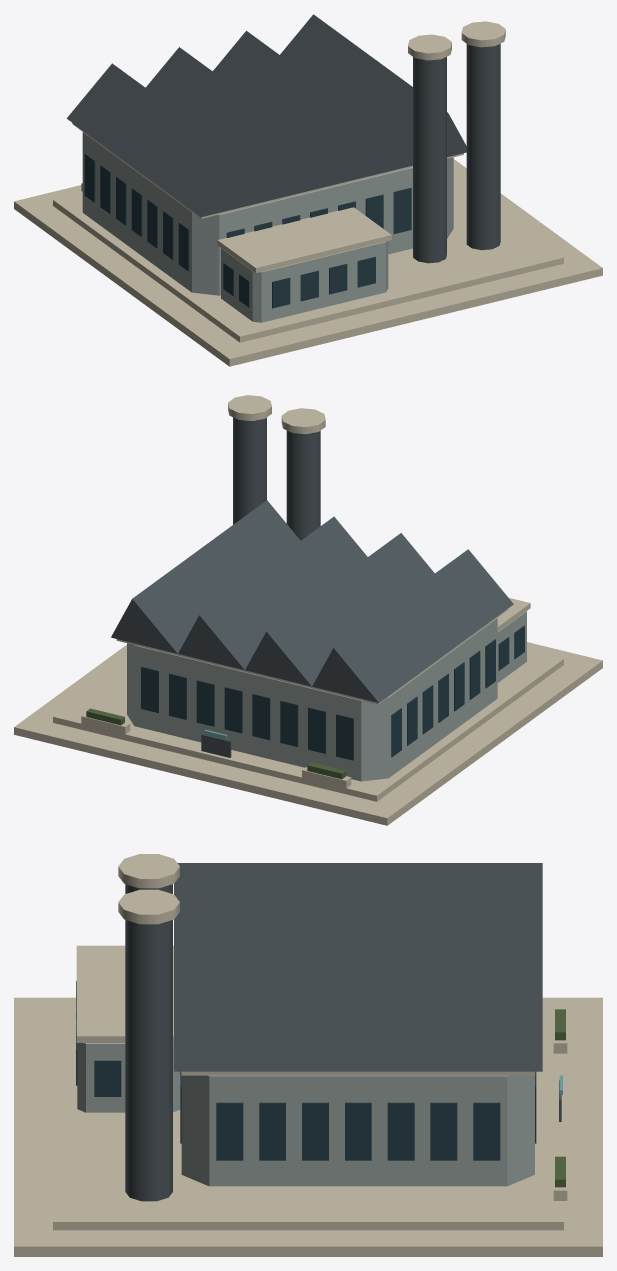
Rendered from industrial.glb.
3 views of the same model, one above another, from view 1: azimuth 30°, elevation 25°; view 2: azimuth 150°, elevation 25°; view 3: azimuth 270°, elevation 25° (orthographic). The views are drawn at different scales.
Visible parts, largest first — view 1: sawtooth-factory-roof, foundation, factory-hall, plinth, exhaust-stacks, windows, roof-slabs, loading-annex, stack-collars; view 2: sawtooth-factory-roof, factory-hall, foundation, windows, plinth, exhaust-stacks, stack-collars, roof-slabs, loading-annex, planters, planting; view 3: sawtooth-factory-roof, plinth, foundation, factory-hall, exhaust-stacks, windows, roof-slabs, stack-collars, loading-annex, planting, planters.
Boxes of the visible parts, <box> form: sawtooth-factory-roof: <box>67,14,466,216</box>; foundation: <box>14,159,602,366</box>; factory-hall: <box>82,132,453,295</box>; plinth: <box>53,177,563,342</box>; exhaust-stacks: <box>413,43,500,263</box>; windows: <box>84,153,411,308</box>; roof-slabs: <box>72,123,463,272</box>; loading-annex: <box>221,241,388,322</box>; stack-collars: <box>408,21,505,60</box>; sawtooth-factory-roof: <box>111,500,513,702</box>; factory-hall: <box>127,618,497,781</box>; foundation: <box>14,642,602,825</box>; windows: <box>141,625,524,760</box>; plinth: <box>53,650,563,801</box>; exhaust-stacks: <box>233,417,320,540</box>; stack-collars: <box>228,395,325,434</box>; roof-slabs: <box>116,598,530,704</box>; loading-annex: <box>497,611,526,682</box>; planters: <box>81,713,351,788</box>; planting: <box>86,708,345,779</box>; sawtooth-factory-roof: <box>174,863,542,1071</box>; plinth: <box>53,1006,563,1230</box>; foundation: <box>14,997,602,1256</box>; factory-hall: <box>181,1075,534,1186</box>; exhaust-stacks: <box>125,884,172,1201</box>; windows: <box>76,981,536,1160</box>; roof-slabs: <box>76,945,535,1075</box>; stack-collars: <box>118,854,179,924</box>; loading-annex: <box>77,1043,180,1112</box>; planting: <box>555,1009,565,1187</box>; planters: <box>553,1014,567,1200</box>.
Size of the model in its own units: 15.52 by 8.96 by 15.52.
